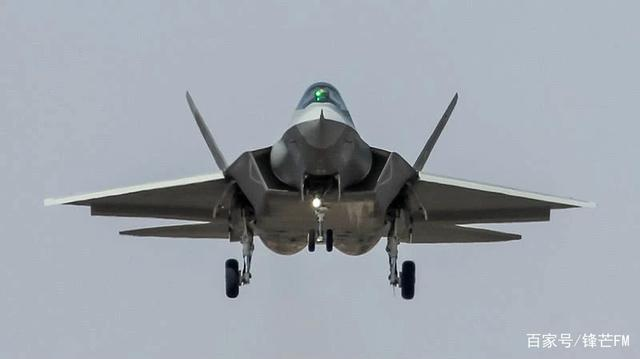airplane: (41, 82, 598, 300)
